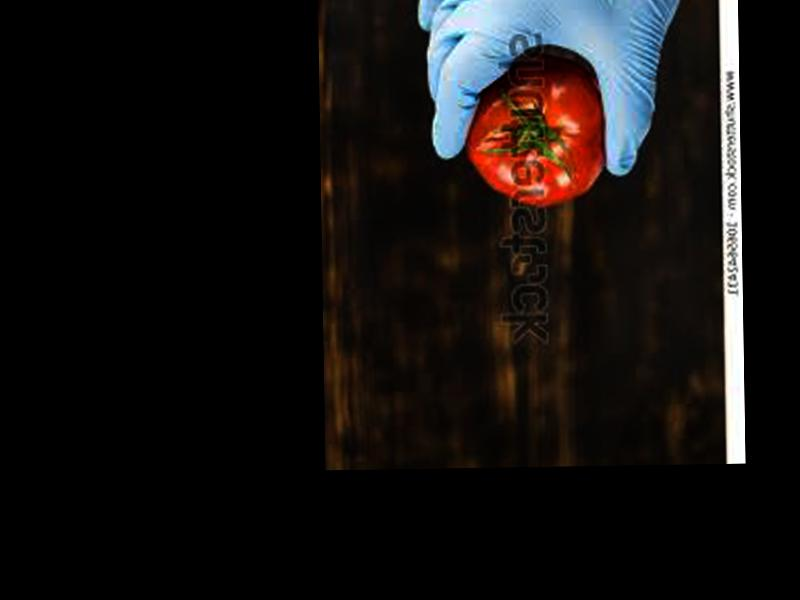Tomato: (464, 52, 607, 209)
